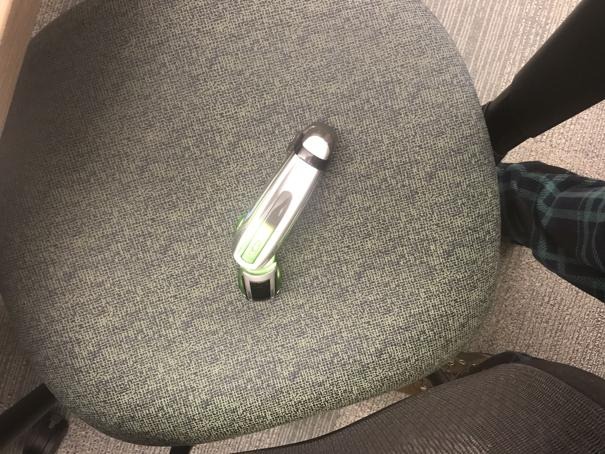Freewheel: (231, 122, 338, 302)
